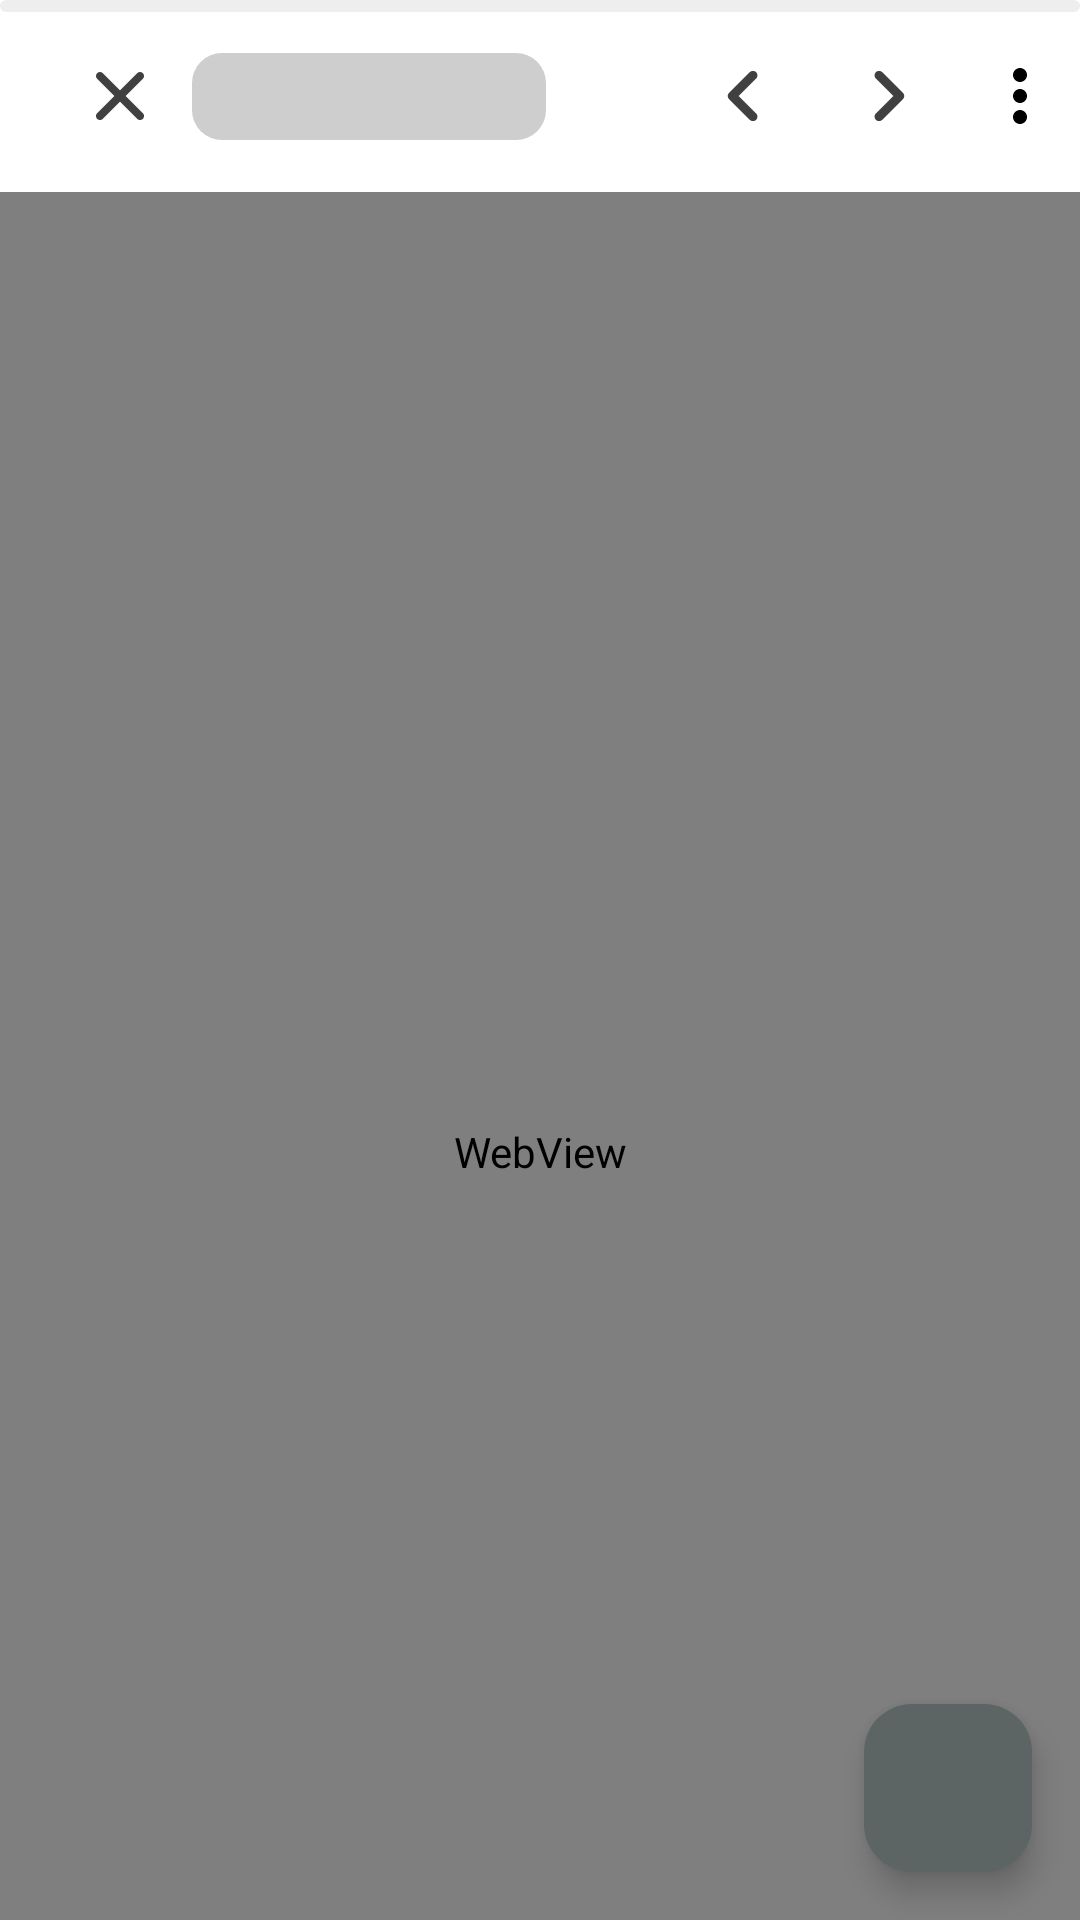

Icon click points for this 1080 x 1920 phone screenshot, format (x=x, y=y):
back: (x=742, y=96)
cancel: (x=120, y=96)
forward: (x=889, y=96)
menu: (x=1020, y=96)
